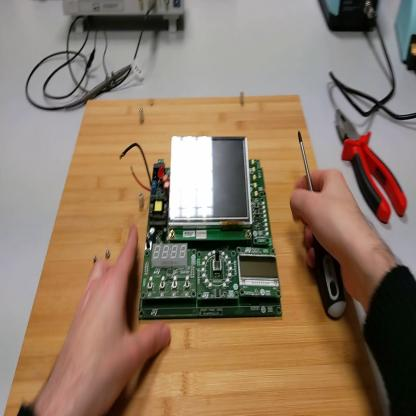hand: (54, 224, 171, 407), (290, 165, 371, 302)
low voltage board: (119, 134, 285, 319)
oscilloscope: (62, 2, 187, 35)
oscilloscope probe tip: (65, 65, 131, 112)
pliers: (335, 109, 409, 226)
screwdriver-: (298, 128, 348, 318)
welder base: (397, 3, 416, 72)
welder station: (321, 3, 381, 34)
working area: (4, 96, 383, 415)
